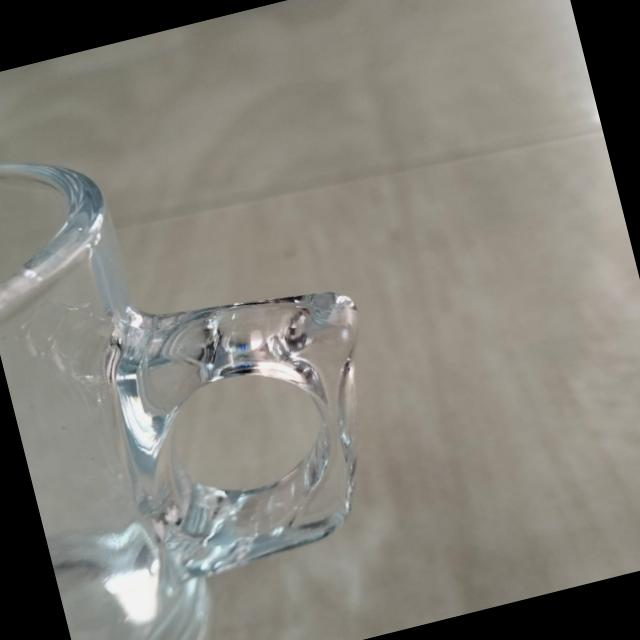glass-VX4N: (0, 75, 443, 640)
